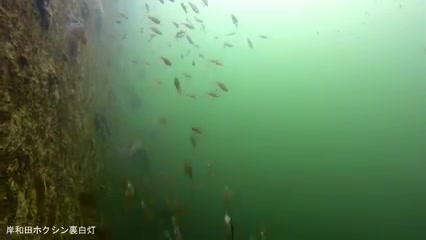smallfish: (154, 52, 174, 72), (186, 1, 203, 19)
